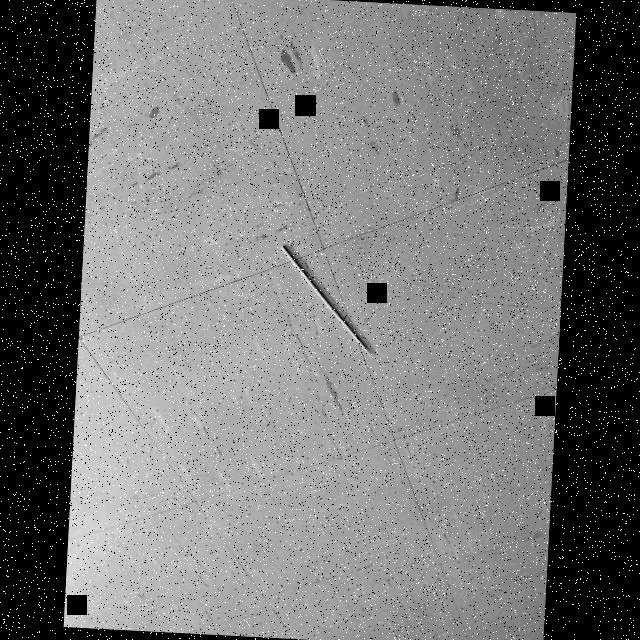stick: (264, 237, 392, 368)
